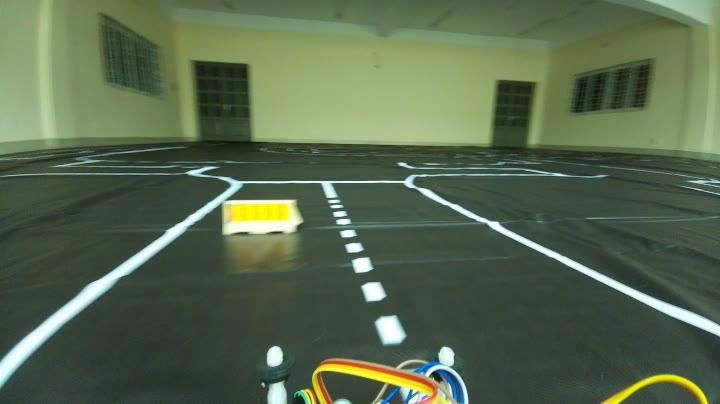roadblock: (217, 194, 306, 235)
